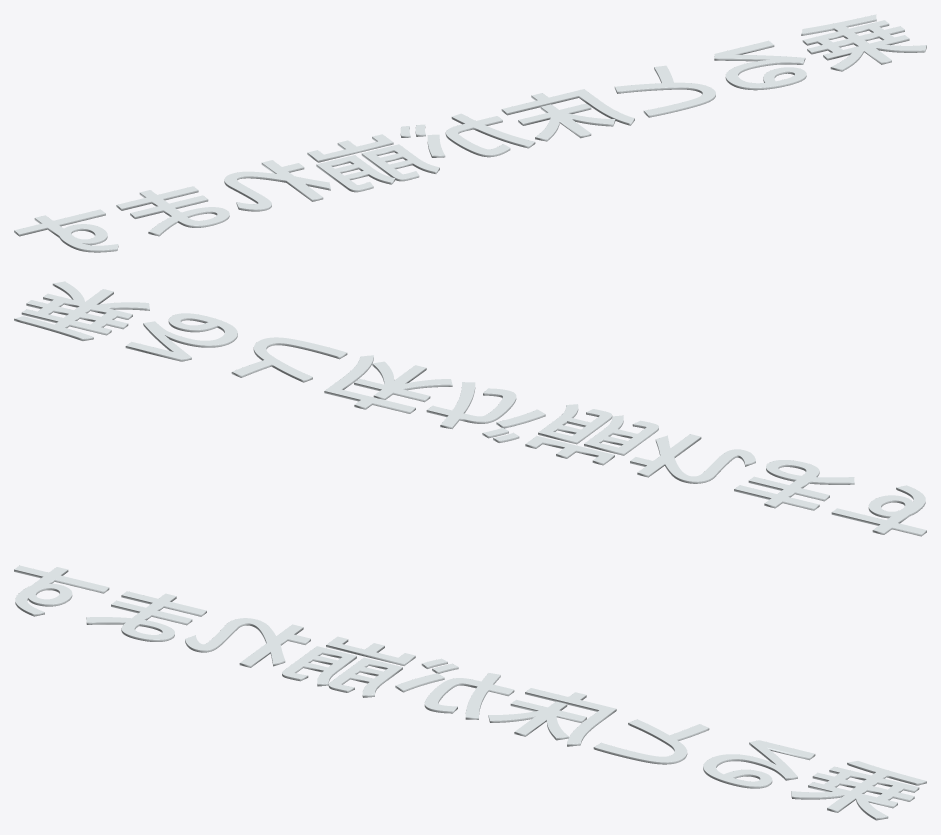
The model's file is stage1_falling_floor_detail.obj.
3 views of the same model, one above another, from view 1: azimuth 30°, elevation 25°; view 2: azimuth 150°, elevation 25°; view 3: azimuth 330°, elevation 25° (orthographic). The views are drawn at different scales.
Parts seen in each view (by area): view 1: stage1_falling_floor_detail; view 2: stage1_falling_floor_detail; view 3: stage1_falling_floor_detail.
Boxes of the visible parts, box(x1,y1,x2,y2) form: stage1_falling_floor_detail: box(14, 14, 926, 252); stage1_falling_floor_detail: box(14, 281, 926, 536); stage1_falling_floor_detail: box(14, 565, 926, 820).
Size of the model in its own units: 4.3 by 0.0106 by 0.4711.
Materials: 1 (1 with a texture image).
